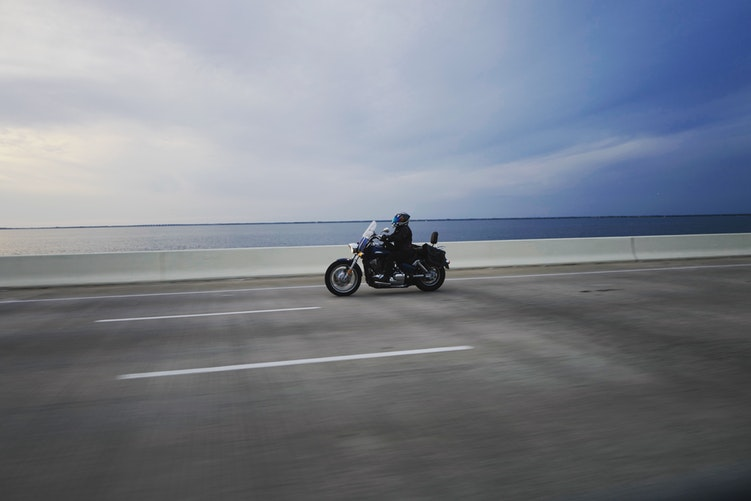helmet: (392, 213, 414, 230)
